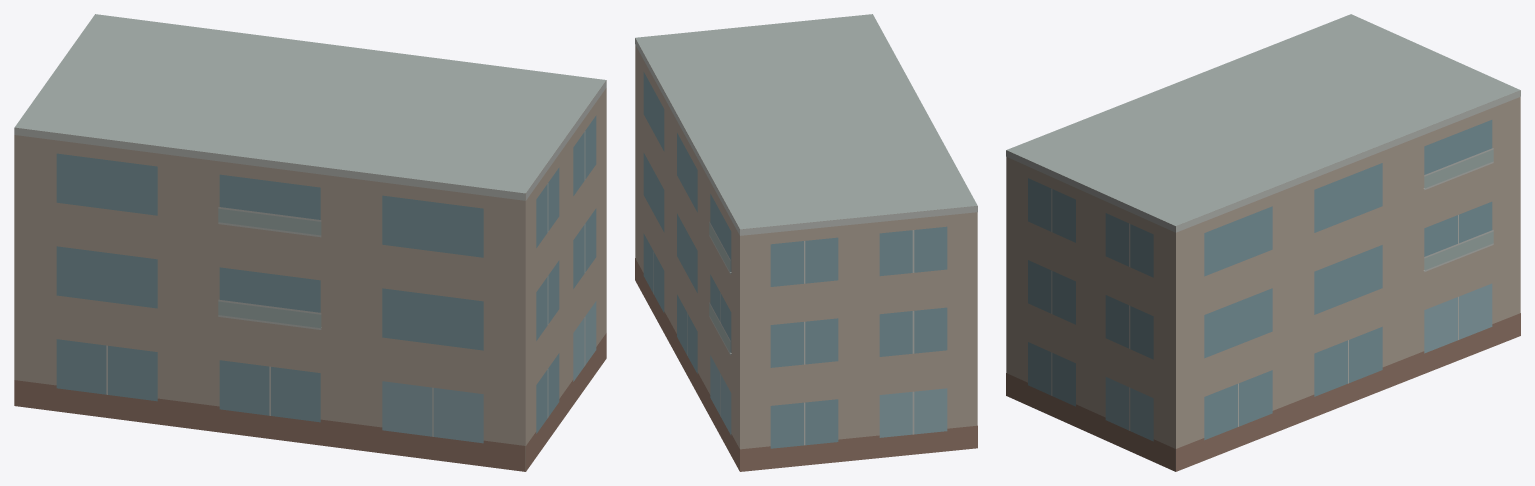
The model's file is survey-upis-32683661.glb.
The picture shows the model from 3 angles, left to right: view 1: azimuth 30°, elevation 25°; view 2: azimuth 150°, elevation 25°; view 3: azimuth 270°, elevation 25°; orthographic projection. The views are drawn at different scales.
Parts seen in each view (by area): view 1: survey-upis-32683661.tmp; view 2: survey-upis-32683661.tmp; view 3: survey-upis-32683661.tmp.
Part boxes in pixels (x1,y1,x2,y2): survey-upis-32683661.tmp: (14, 14, 606, 471); survey-upis-32683661.tmp: (635, 14, 977, 471); survey-upis-32683661.tmp: (1006, 14, 1520, 471).
Bounding box in the file's own units: 16.96 × 9.15 × 17.38.
